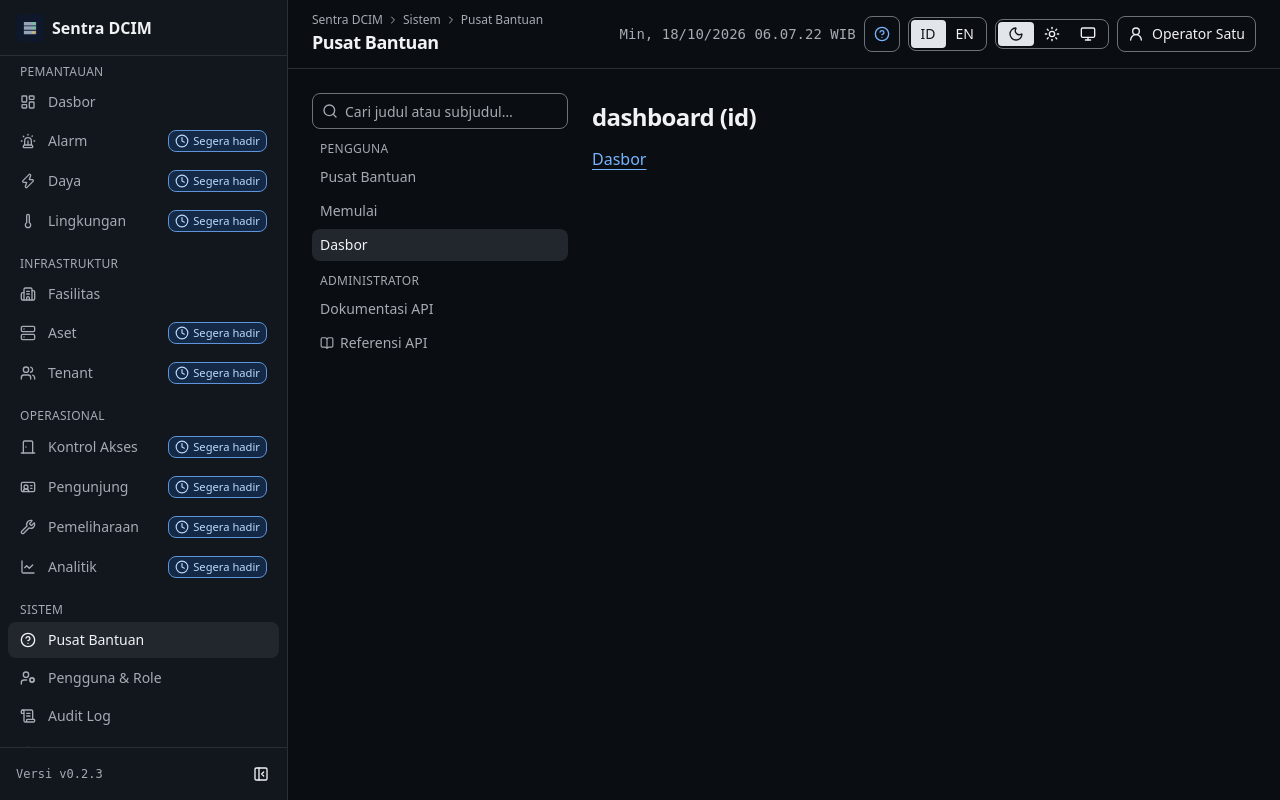
Help Center › reloads the same page in the other language
Check: the heading "dashboard (id)" is shown, box [592,100,756,133]
Click the button with aria-label "English" at (965, 34), box [946,20,984,48]
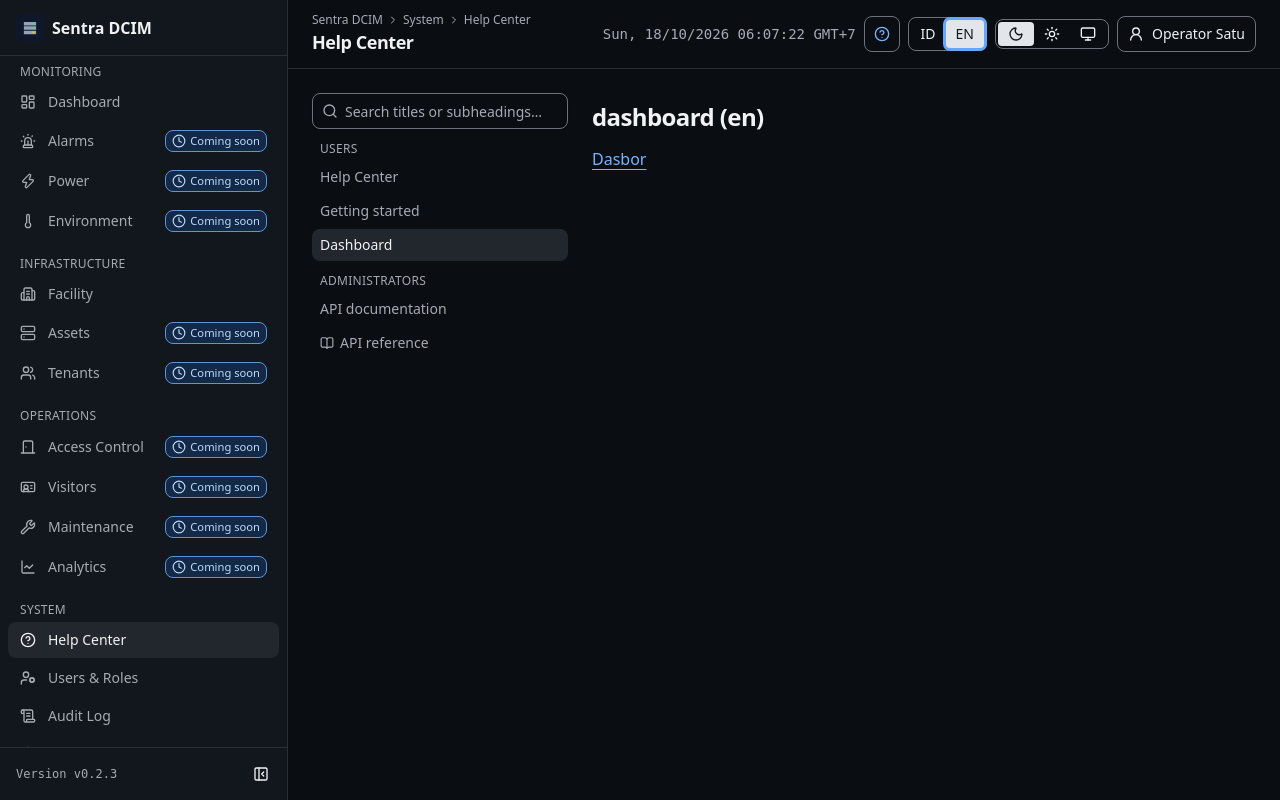
Check: the heading "dashboard (en)" is shown, box [592,100,764,133]
